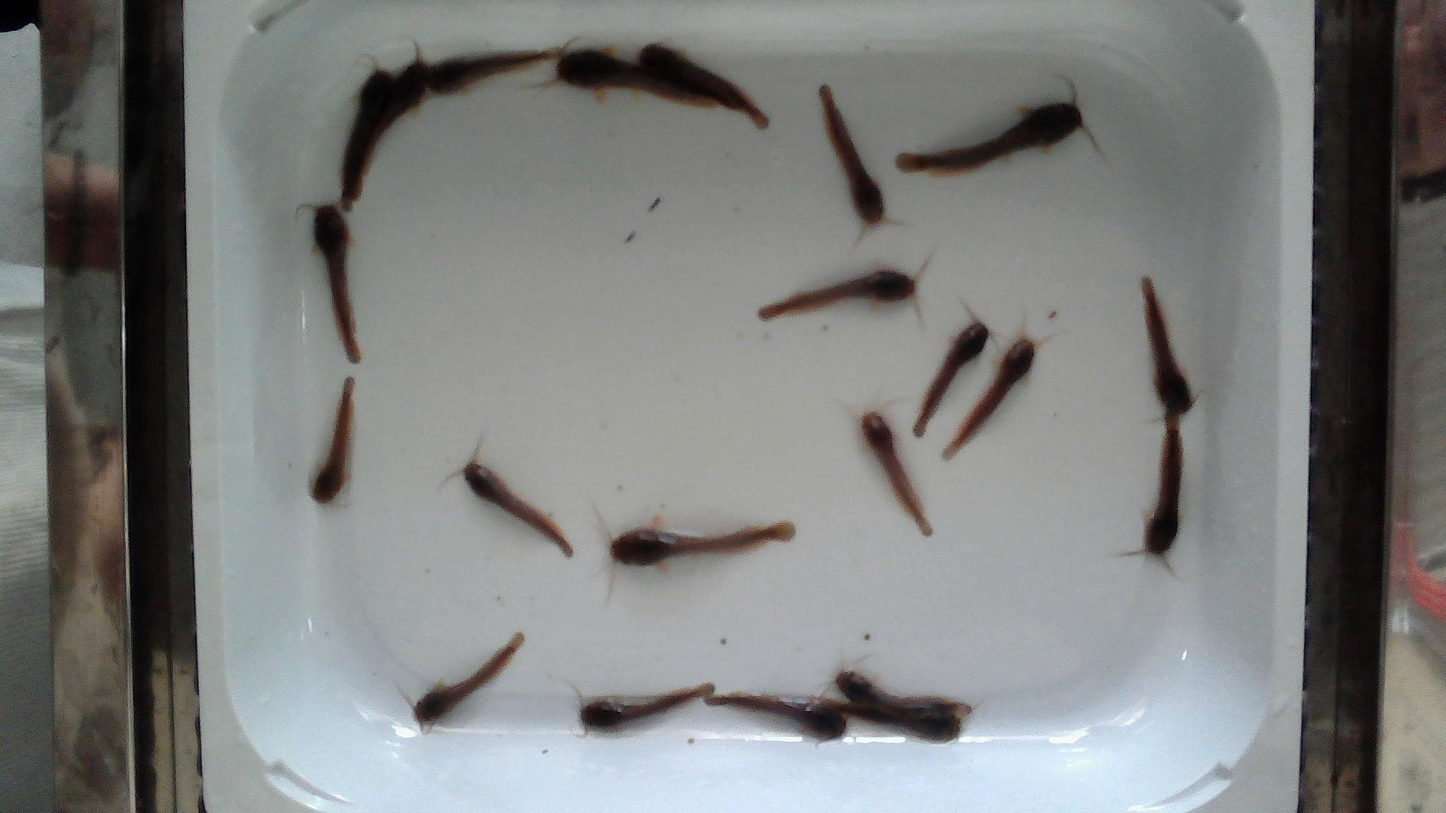lele: (895, 102, 1081, 174), (943, 336, 1035, 459), (462, 460, 573, 557), (643, 44, 768, 130), (556, 52, 731, 110), (413, 633, 523, 723), (819, 85, 884, 224), (860, 411, 931, 536), (357, 63, 427, 189), (913, 321, 989, 437), (758, 269, 915, 320), (611, 522, 794, 565), (314, 205, 360, 362), (1143, 273, 1194, 413), (343, 68, 391, 209), (426, 47, 563, 93), (705, 693, 847, 737), (823, 697, 964, 739), (581, 684, 712, 728), (1143, 409, 1183, 553), (836, 673, 971, 715), (312, 378, 353, 503)
